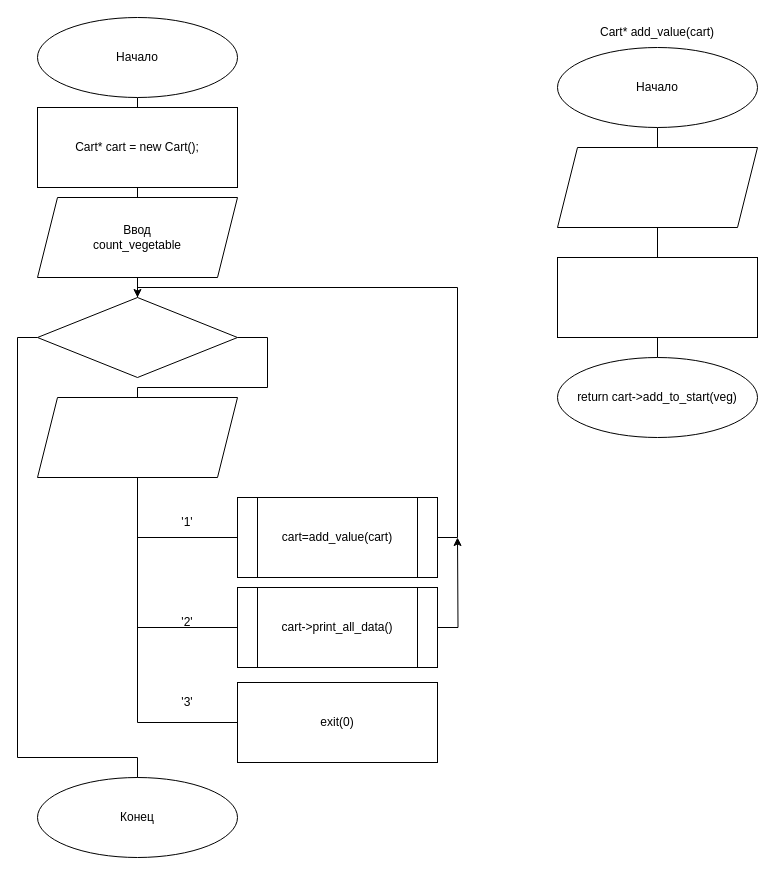
The diagram is 775 pixels wide and 875 high, and some of its shapes have lost their labels. The shapes that lost their labels are listed below. From the top down, each one's centre as x and y in pixels, then its label:
At pixel 657 187: "Ввод title weight price".
At pixel 657 297: "vegetable* veg = new vegetable( title, weight, price)".
At pixel 137 337: "while(true)".
At pixel 137 437: "Ввод menu".
